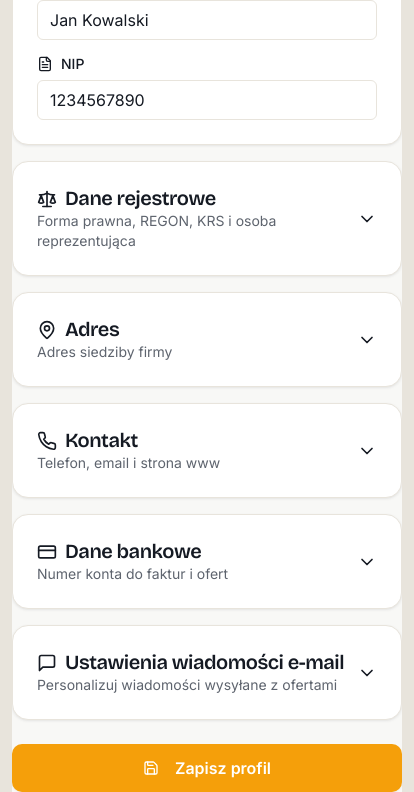
CompanyProfile › email preview › should render email signature field
This screenshot has width=414, height=792.
(page scrolled)
# Otwórz sekcję Szablony email (domyślnie zamknięta)
Click the heading "Ustawienia wiadomości e-mail".
click(190, 663)  # box [37, 650, 344, 675]
(page scrolled)
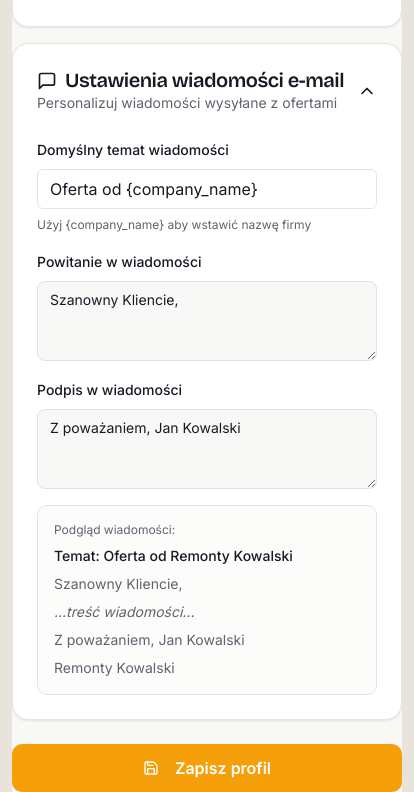
Expected: the text box showing "Z poważaniem, Jan Kowalski" is shown, [37, 409, 377, 489]
